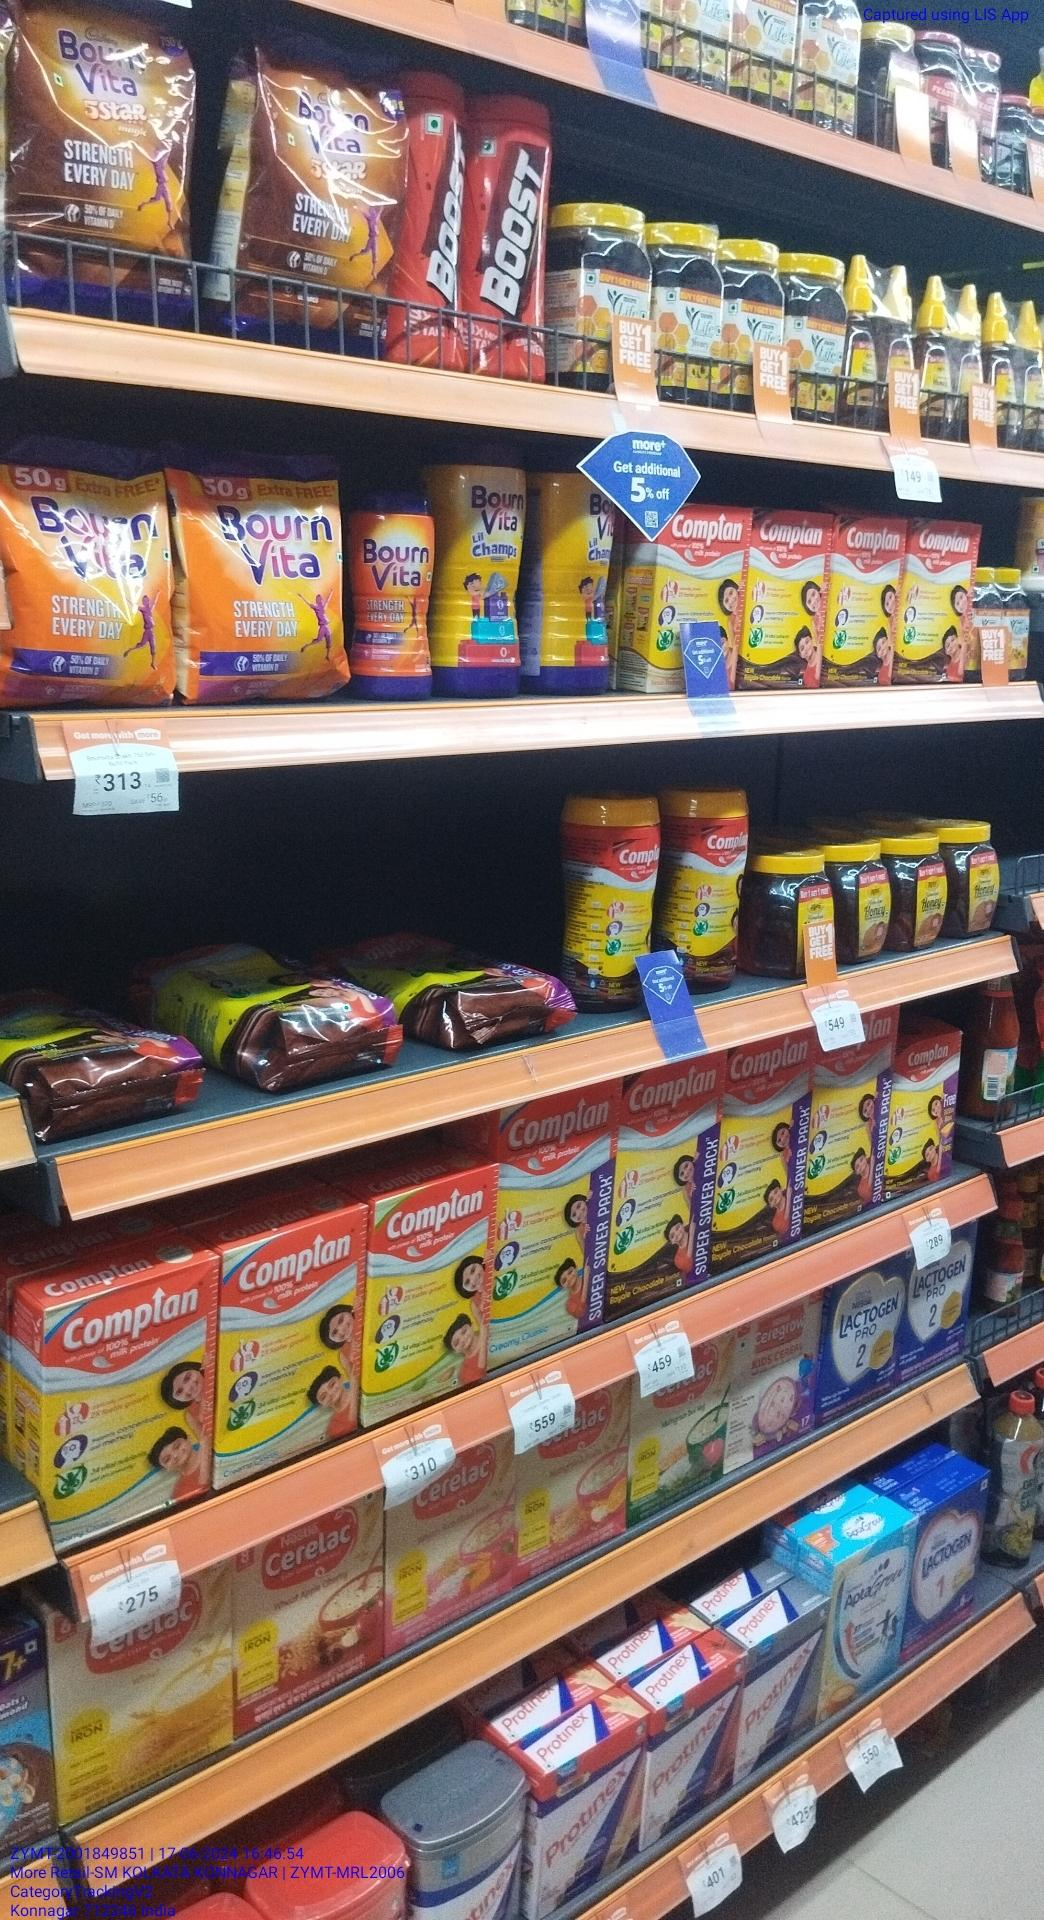BOURN_VITA_200_G_JAR: (341, 474, 428, 702)
BOURN_VITA_CHAMPS_500_G_JAR: (436, 441, 523, 697), (528, 452, 613, 693)
BOURN_VITA_FIVE_STAR_MAGIC_750_G_POUCH: (4, 15, 203, 317), (228, 26, 393, 346)
COMPLAN_CHOCOLATE_1_KG_PACK: (615, 1067, 719, 1298), (723, 1032, 809, 1261), (810, 1018, 890, 1221)
COMPLAN_CHOCOLATE_200_GMS_JAR: (579, 792, 662, 1009), (666, 785, 747, 986)
COMPLAN_CHOCOLATE_200_GMS_PACK: (739, 509, 823, 689), (827, 514, 905, 686), (905, 517, 972, 684)
COMPLAN_CHOCOLATE_500_GMS_PACK: (894, 1037, 963, 1193)
COMPLAN_CREAMY_CLASSIC_500_G_PACK: (46, 1276, 213, 1523), (215, 1227, 365, 1464), (370, 1178, 490, 1419)
